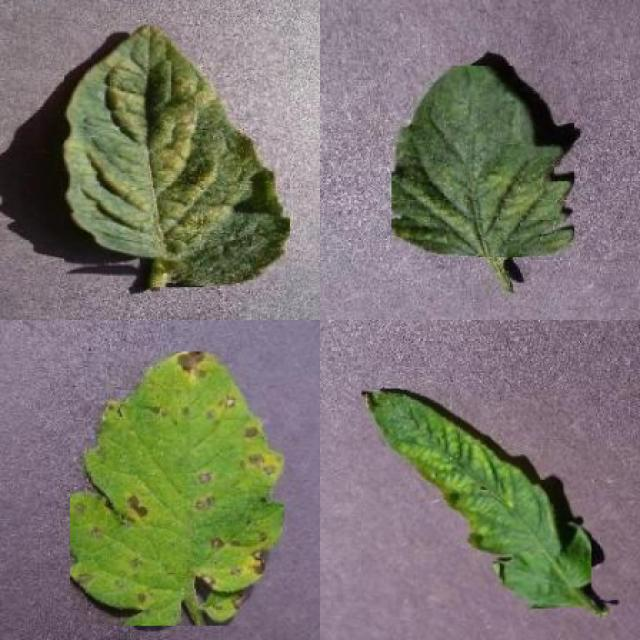Mosaic Virus: (362, 388, 592, 608), (392, 66, 575, 257)
Septoria: (71, 351, 285, 626)
Spider Mites: (64, 25, 290, 288)
